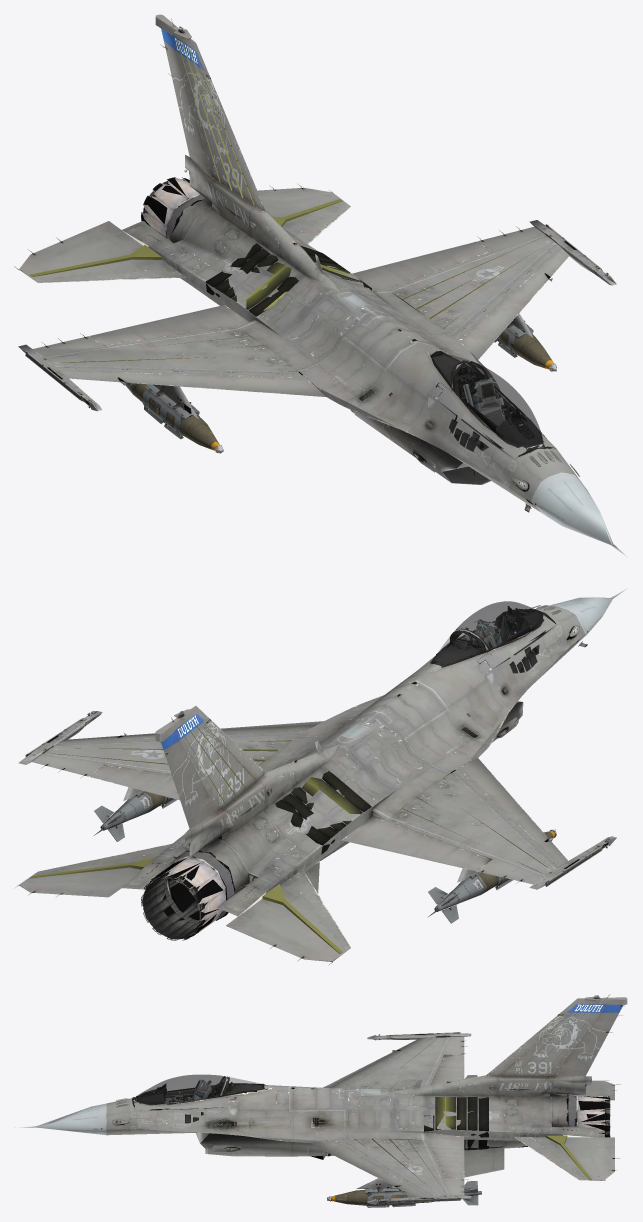
3 views of the same model, one above another, from view 1: azimuth 30°, elevation 25°; view 2: azimuth 150°, elevation 25°; view 3: azimuth 270°, elevation 25° (orthographic). The views are drawn at different scales.
Parts seen in each view (by area): view 1: Object_19, Object_8, Object_4, Object_12, Object_16, Object_10, Object_3, Object_9; view 2: Object_19, Object_8, Object_4, Object_12, Object_16, Object_10, Object_3; view 3: Object_19, Object_8, Object_4, Object_16, Object_12, Object_10.
Part boxes in pixels (x1,y1,x2,y2): Object_19: (14,14,627,557); Object_8: (30,38,555,372); Object_4: (179,26,542,444); Object_12: (125,324,556,453); Object_16: (430,351,556,458); Object_10: (18,220,616,411); Object_3: (463,378,505,426); Object_9: (153,313,532,418); Object_19: (14,588,627,965); Object_8: (30,718,553,953); Object_4: (179,601,542,716); Object_12: (94,791,556,923); Object_16: (432,606,556,673); Object_10: (18,711,616,889); Object_3: (464,618,502,647); Object_19: (14,994,627,1196); Object_8: (354,1004,599,1191); Object_4: (136,995,598,1149); Object_16: (132,1076,264,1123); Object_12: (327,1075,481,1207); Object_10: (367,1032,471,1204).
Bounding box in the file's own units: 9.66 × 4.72 × 15.16.
Materials: 10 (8 with a texture image).
